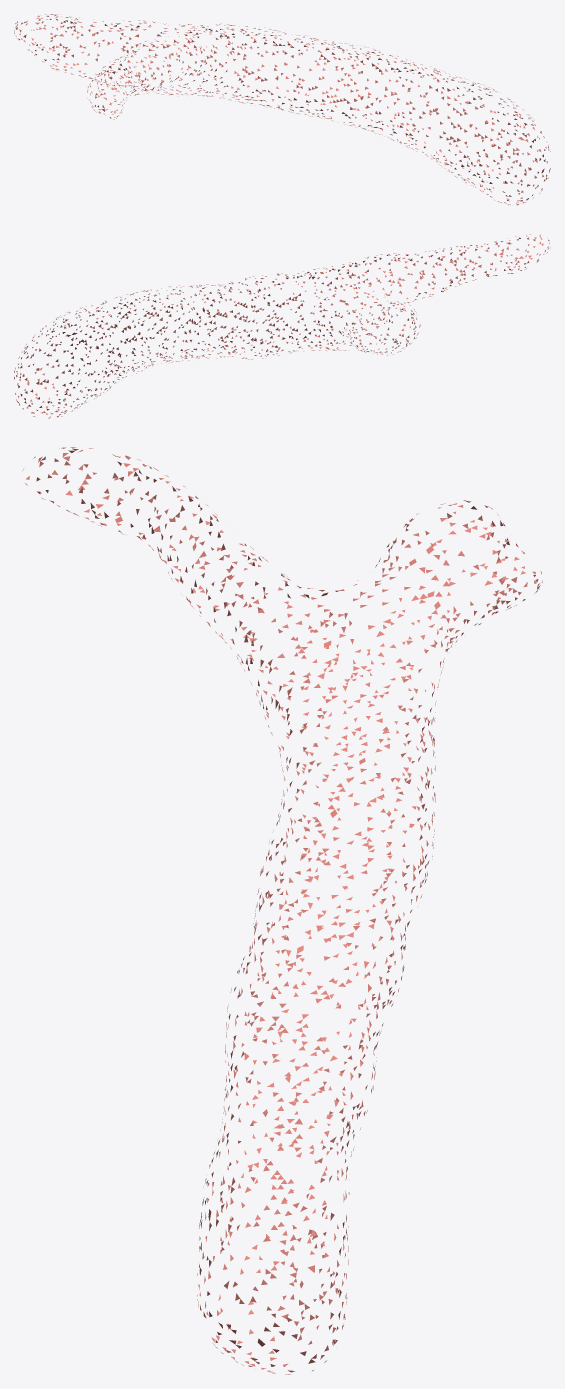
The model's file is morph_001.glb.
The picture shows the model from 3 angles, top to bottom: view 1: azimuth 30°, elevation 25°; view 2: azimuth 150°, elevation 25°; view 3: azimuth 270°, elevation 25°; orthographic projection. The views are drawn at different scales.
Size of the model in its own units: 112 by 56.29 by 53.06.
